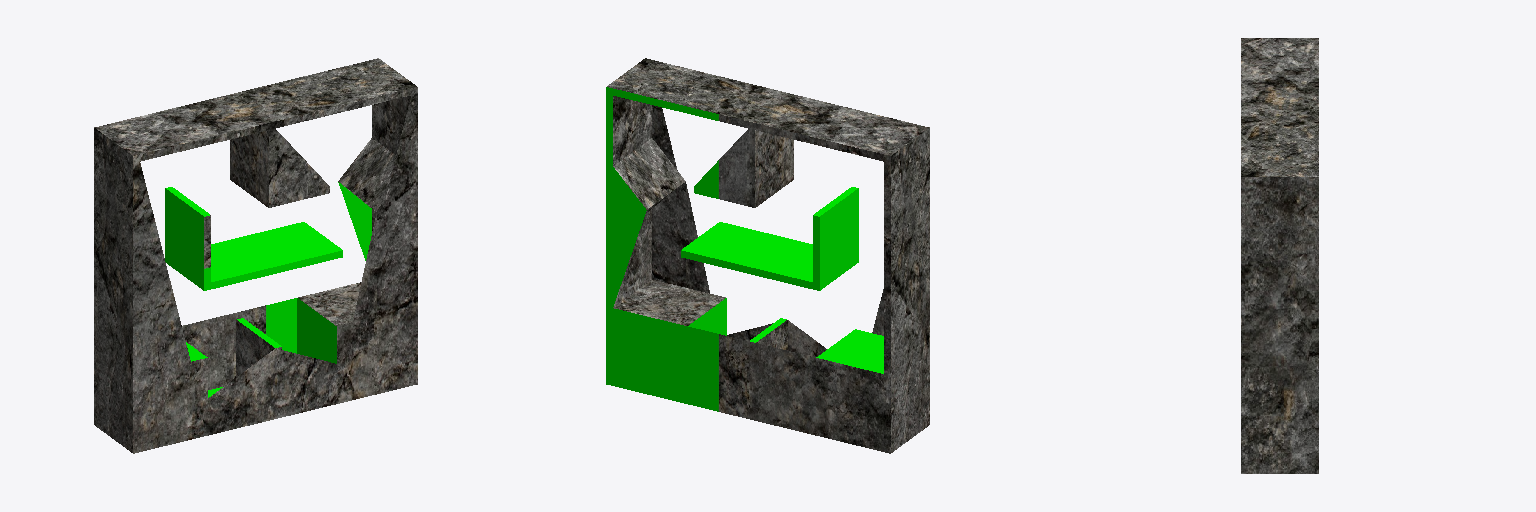
The picture shows the model from 3 angles: view 1: azimuth 30°, elevation 25°; view 2: azimuth 150°, elevation 25°; view 3: azimuth 270°, elevation 25°; orthographic projection.
Parts seen in each view (by area): view 1: Closed_Maze; view 2: Closed_Maze; view 3: Closed_Maze.
Part boxes in pixels (bbox=[...]): Closed_Maze: bbox=[94, 58, 417, 453]; Closed_Maze: bbox=[606, 58, 929, 453]; Closed_Maze: bbox=[1241, 38, 1318, 473].
Size of the model in its own units: 4.2 by 4.2 by 1.
1 materials, 1 textured.